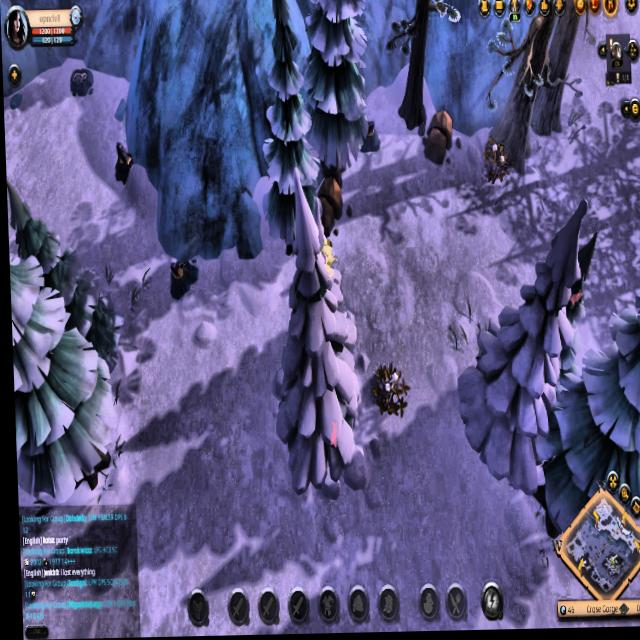copper_ore: (161, 258, 202, 301), (109, 140, 138, 188)
cotton: (367, 369, 413, 421), (482, 134, 508, 192)
limestone: (419, 111, 457, 168), (317, 173, 344, 238)
